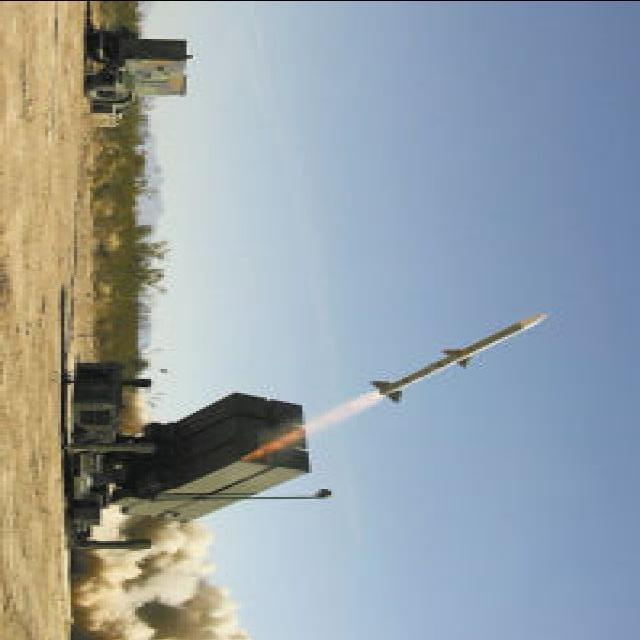missile: (372, 308, 546, 402)
